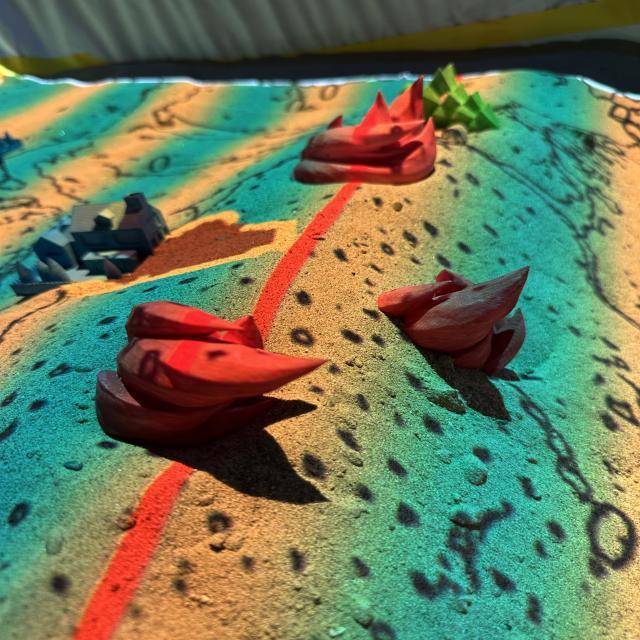fire: (96, 299, 326, 438), (378, 263, 529, 381), (291, 76, 437, 182)
house: (11, 190, 170, 300)
tree: (420, 64, 509, 132)
